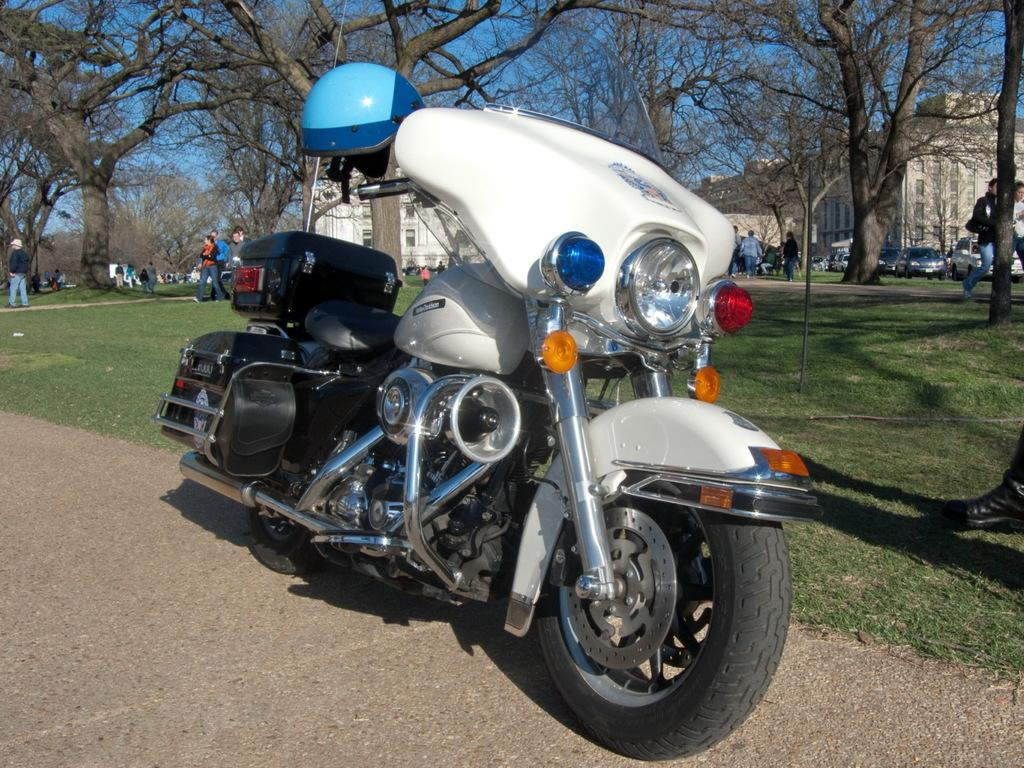Motorcycle: (139, 99, 812, 753)
